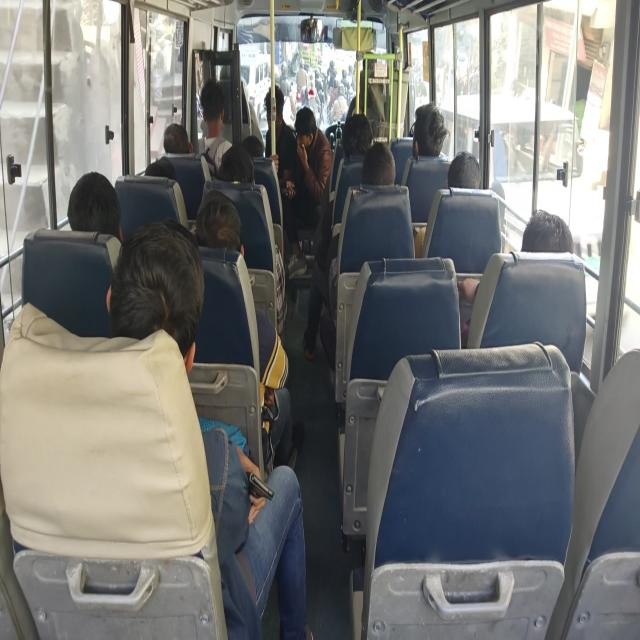person: (63, 181, 159, 290), (129, 242, 210, 339), (513, 211, 587, 278), (157, 113, 201, 174), (364, 148, 406, 201), (449, 152, 483, 211), (201, 84, 236, 140), (411, 115, 444, 172), (138, 148, 178, 194), (197, 202, 236, 248), (260, 91, 300, 129), (222, 146, 254, 188), (291, 106, 320, 152), (345, 121, 375, 158), (242, 131, 272, 165)
